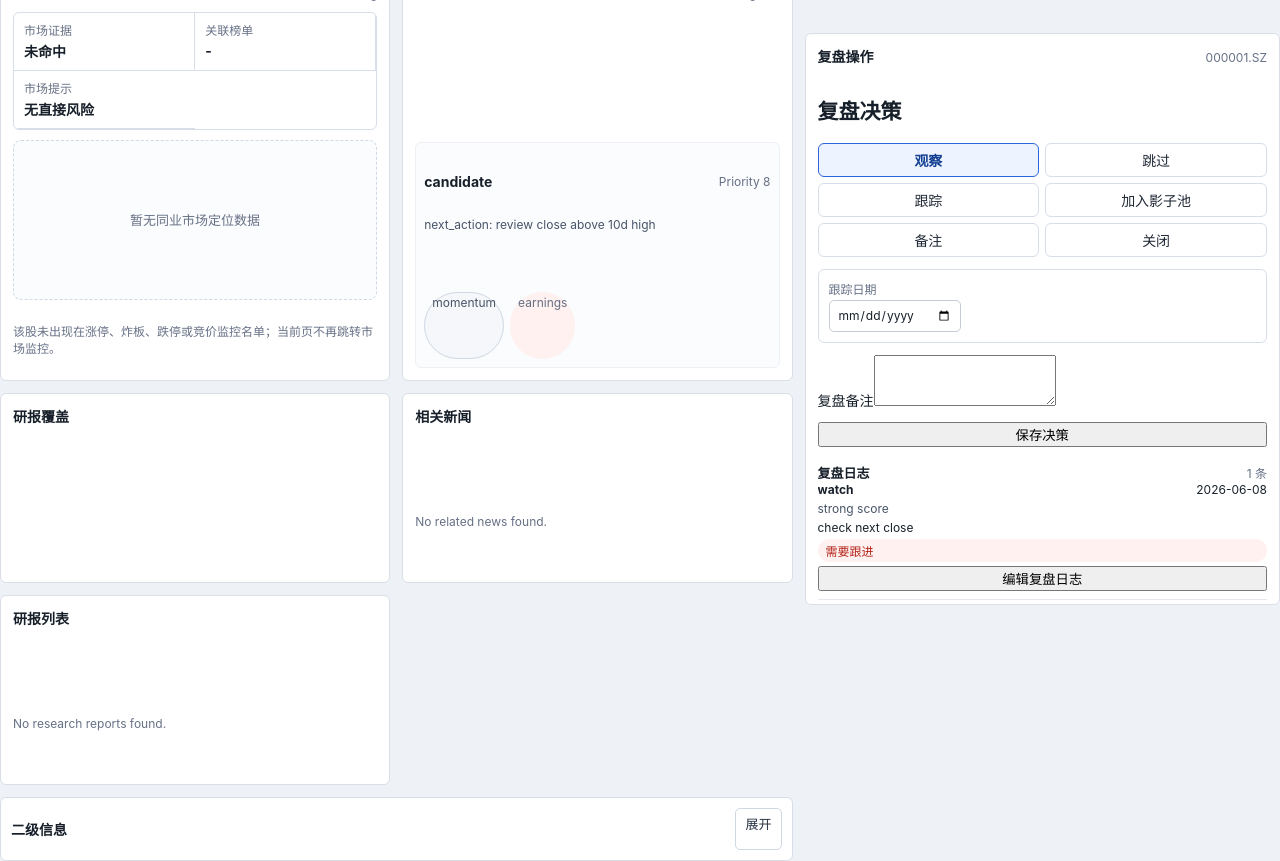
StockWorkspace › loads a stock dossier with factors, news, watchlist, and evidence
(page scrolled)
Click the heading "二级信息" at (39,829), box [11,821,67,838]
(page scrolled)
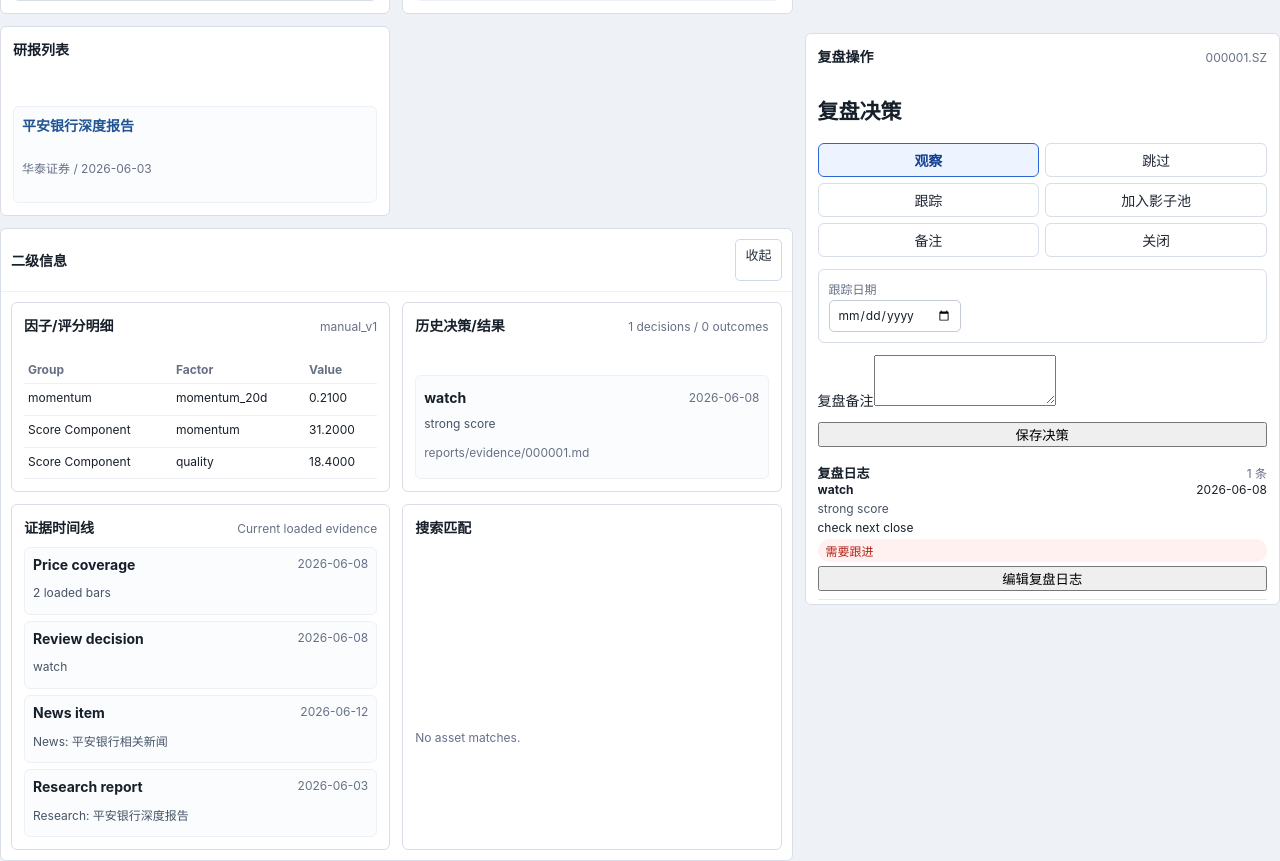
Check: the text "Score Component" is shown 2 times, box [24,415,172,447]; [24,447,172,479]
Check: the text "quality" is shown, box [172,447,305,479]
Check: the text "reports/evidence/000001.md" is shown, box [424,445,589,460]
